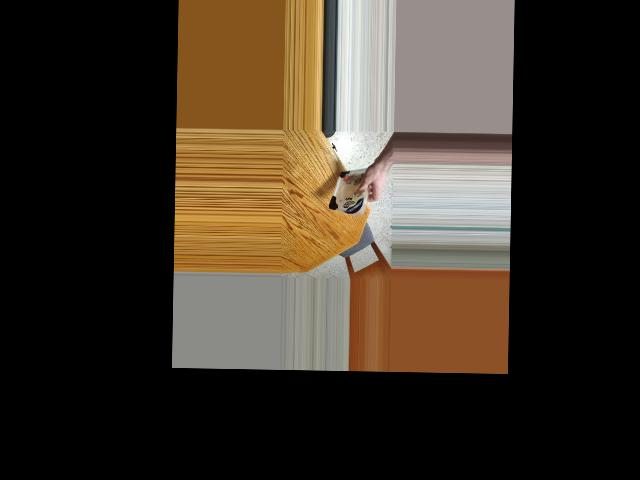cheese: (333, 165, 368, 217)
